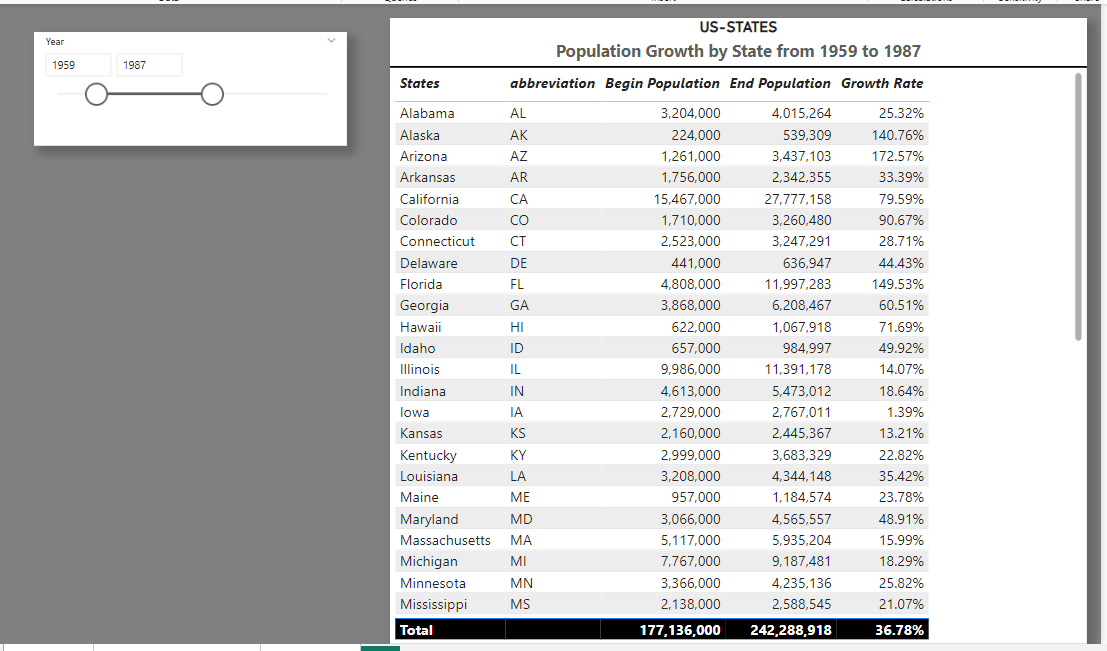

Layout of this report page (visuals, bound fields, positions):
{"tool":"powerbi","page":{"name":"Population growth rate","canvas":[1280,720],"ordinal":2},"visuals":[{"type":"tableEx","title":"US-STATES","fields":{"Values":["us-states.States","us-states.abbreviation","_measures.Begin Population","_measures.End Population","_measures.Growth Rate"]},"box":[480,16,784,704],"z":0},{"type":"slicer","fields":{"Values":["states-population.Year"]},"box":[80,32,352,128],"z":3000}]}

Visuals, with their boxes on the page's 1280x720 design canvas (x1, y1, x2, y2). These are canvas units, not pixel positions in the 1107x651 screenshot, which may show the page scaled, cropped or inside an application window:
"US-STATES" tableEx: [480,16,1264,720]
slicer - states-population.Year: [80,32,432,160]
